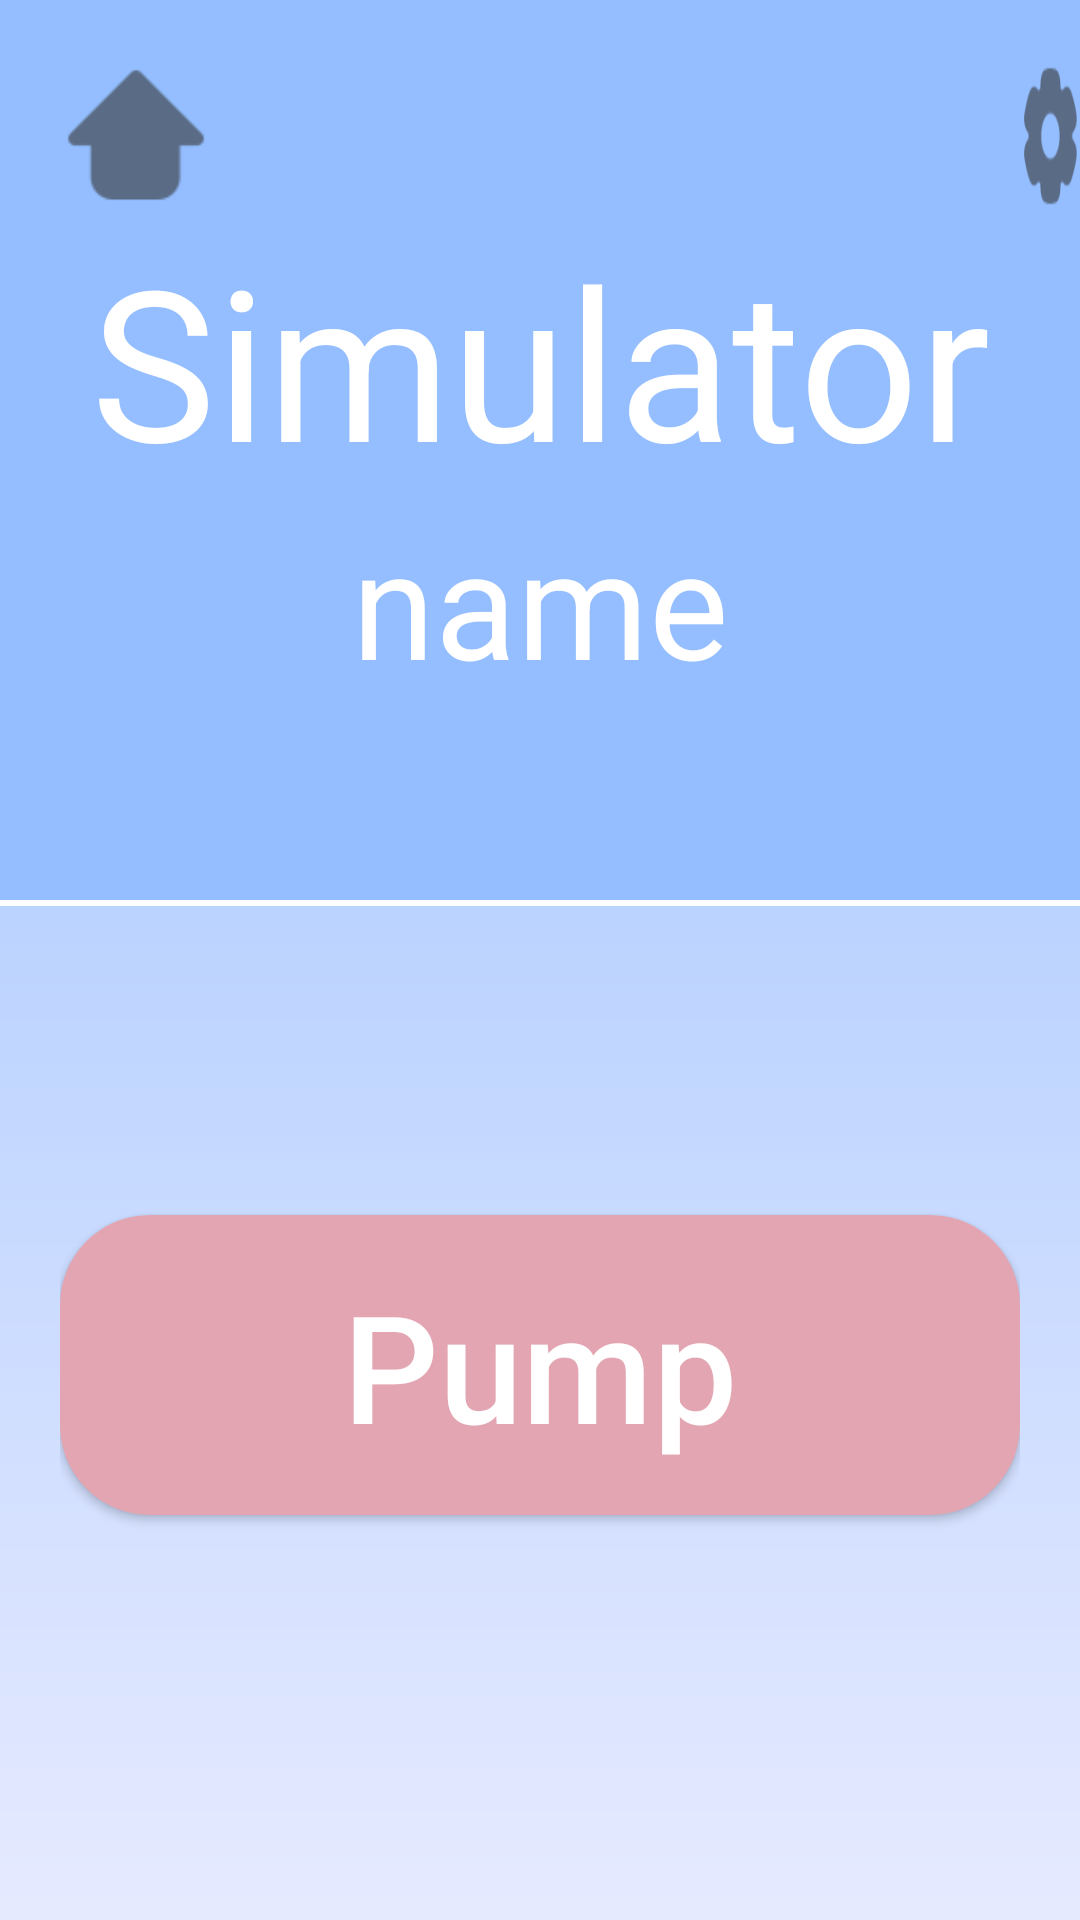

Where icons sit on this 1080w x 1920h app screen, as (x1, y1, x2, y2):
cog wheel: (1024, 68, 1077, 204)
home: (68, 70, 204, 200)
